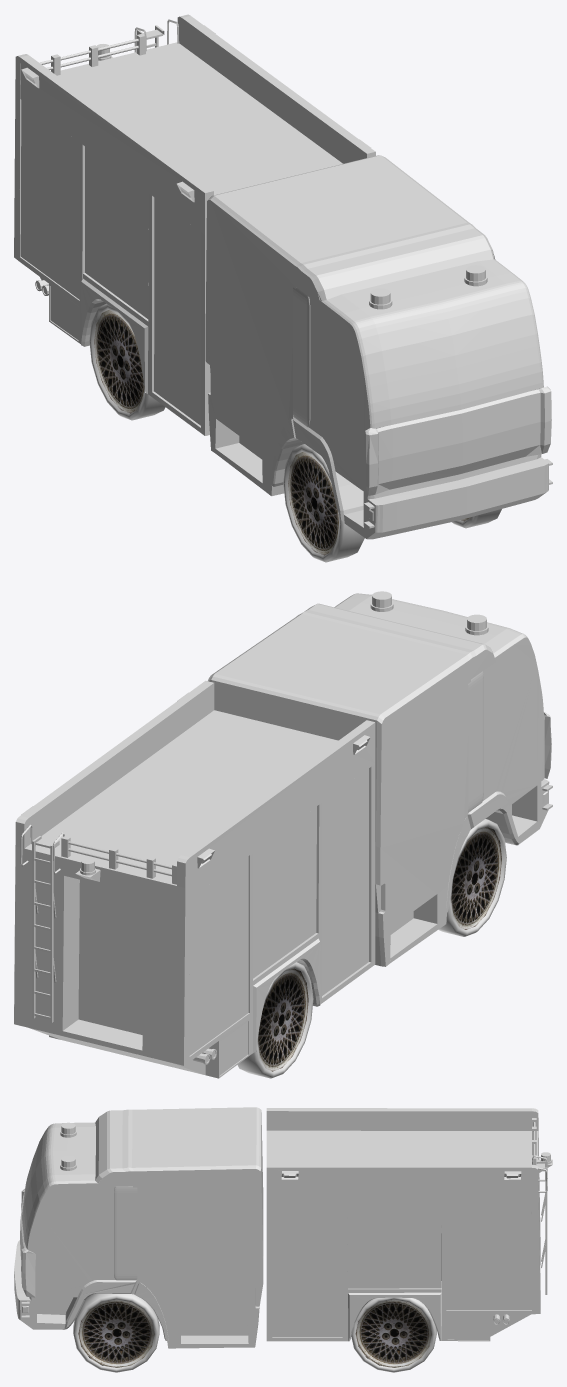
File: Firetruck_bearb.fbx
3 renders of one model, top to bottom at view 1: azimuth 30°, elevation 25°; view 2: azimuth 150°, elevation 25°; view 3: azimuth 270°, elevation 25°, orthographic. The views are drawn at different scales.
Visible parts, largest first — view 1: lf10_08; view 2: lf10_08; view 3: lf10_08.
Boxes of the visible parts, bbox=[...] form: lf10_08: bbox=[14, 14, 552, 562]; lf10_08: bbox=[14, 591, 552, 1078]; lf10_08: bbox=[14, 1107, 552, 1372].
Size of the model in its own units: 99.72 by 150 by 352.
Materials: 11 (1 with a texture image).
